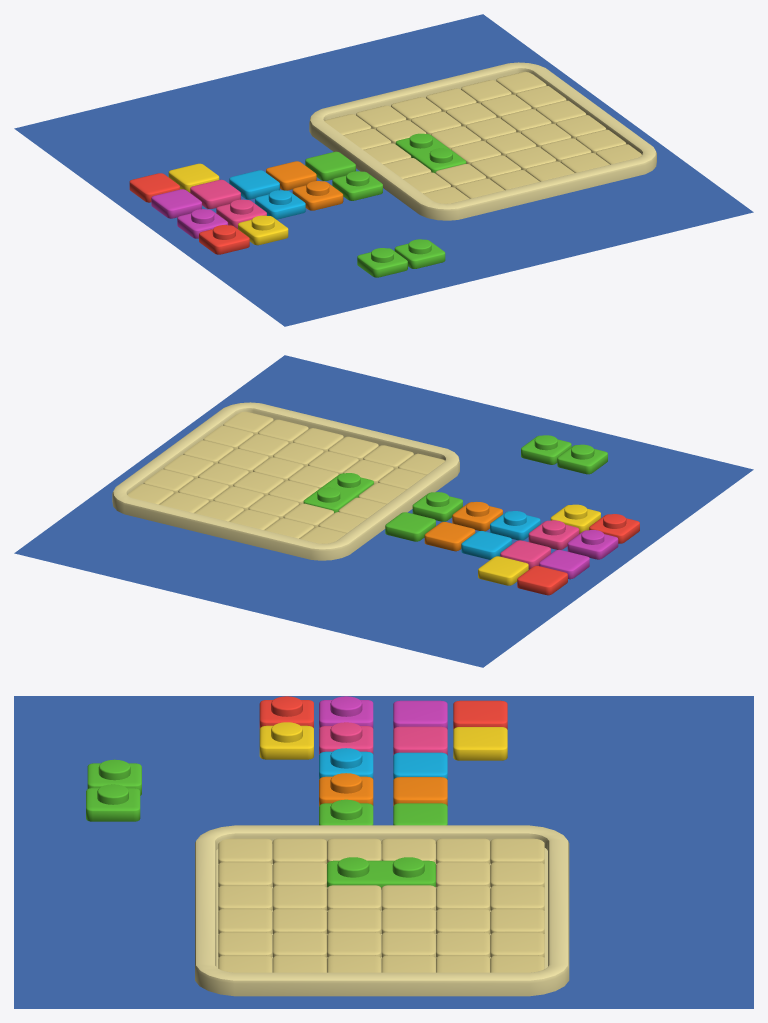
Rendered from ColorJamBlock_V1.1.fbx.
3 views of the same model, one above another, from view 1: azimuth 30°, elevation 25°; view 2: azimuth 150°, elevation 25°; view 3: azimuth 270°, elevation 25° (orthographic). The views are drawn at different scales.
Visible parts, largest first — view 1: Plane.001, edgeCurve, Cube.006, Cube.002, Cube.003, Cube.007, Cube.005, Cube.004, DoubleBlock, Cube.012, Cube.015, Cube.018 (+13 smaller); view 2: Plane.001, edgeCurve, Cube.003, Cube.007, Cube.006, Cube.002, Cube.004, Cube.005, DoubleBlock, Cube.012, Cube.014, Cube.023 (+13 smaller); view 3: Plane.001, edgeCurve, Cube.006, Cube.003, Cube.002, Cube.007, Cube.004, Cube.005, DoubleBlock, Cube.018, Cube.024, Orange (+16 smaller).
Boxes of the visible parts, x1,y1,x2,y2 form: Plane.001: [14, 14, 753, 326]; edgeCurve: [309, 62, 656, 220]; Cube.006: [403, 129, 626, 193]; Cube.002: [324, 71, 546, 135]; Cube.003: [343, 86, 566, 149]; Cube.007: [423, 144, 641, 203]; Cube.005: [383, 115, 606, 178]; Cube.004: [363, 100, 586, 164]; DoubleBlock: [395, 133, 466, 173]; Cube.012: [357, 248, 407, 277]; Cube.015: [199, 225, 249, 254]; Cube.018: [238, 215, 288, 245]; Plane.001: [14, 355, 753, 667]; edgeCurve: [112, 402, 459, 560]; Cube.003: [143, 469, 366, 533]; Cube.007: [223, 411, 444, 474]; Cube.006: [203, 425, 425, 489]; Cube.002: [127, 484, 346, 543]; Cube.004: [163, 454, 386, 518]; Cube.005: [183, 440, 406, 503]; DoubleBlock: [303, 473, 373, 512]; Cube.012: [557, 444, 607, 474]; Cube.014: [567, 530, 618, 559]; Cube.023: [517, 566, 567, 595]; Plane.001: [14, 696, 753, 1008]; edgeCurve: [195, 825, 569, 996]; Cube.006: [272, 838, 326, 972]; Cube.003: [436, 838, 490, 972]; Cube.002: [490, 838, 544, 972]; Cube.007: [218, 838, 272, 972]; Cube.004: [381, 838, 435, 972]; Cube.005: [327, 838, 381, 972]; DoubleBlock: [327, 857, 435, 889]; Cube.018: [259, 722, 313, 759]; Cube.024: [453, 727, 507, 760]; Orange: [319, 773, 373, 806].
Size of the model in its own units: 3031 by 110 by 3031.
